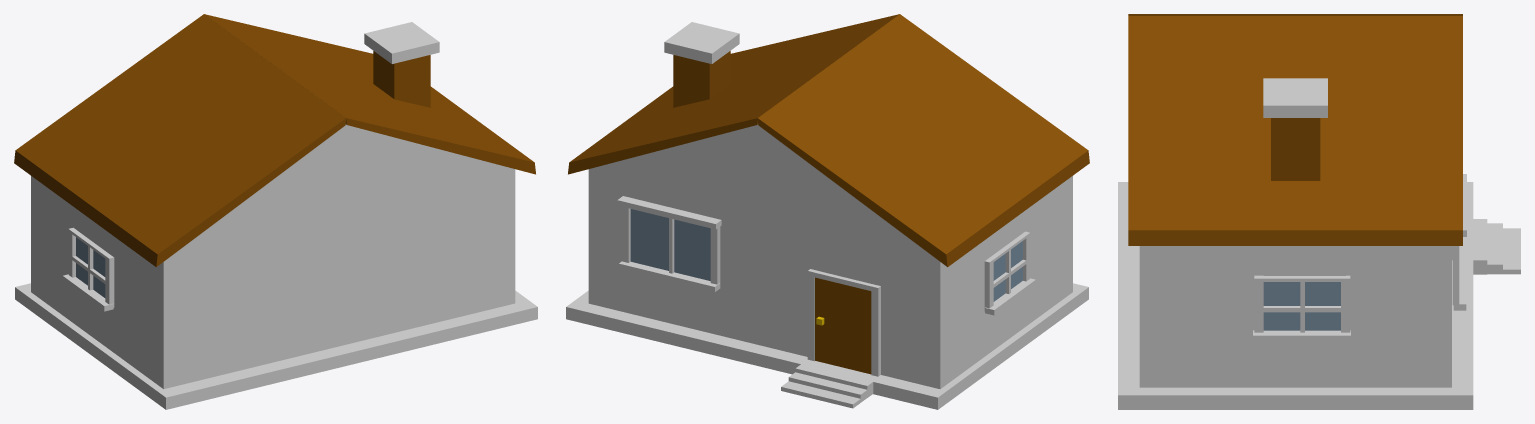
The model's file is Orange Roof House FBX.fbx.
The picture shows the model from 3 angles, left to right: view 1: azimuth 30°, elevation 25°; view 2: azimuth 150°, elevation 25°; view 3: azimuth 270°, elevation 25°; orthographic projection. The views are drawn at different scales.
Parts seen in each view (by area): view 1: pasted__pCube1; view 2: pasted__pCube1; view 3: pasted__pCube1.
Part boxes in pixels (<box>): pasted__pCube1: <box>14,14,537,409</box>; pasted__pCube1: <box>566,14,1089,409</box>; pasted__pCube1: <box>1118,14,1520,409</box>.
Size of the model in its own units: 10.44 by 6.4 by 8.15.
